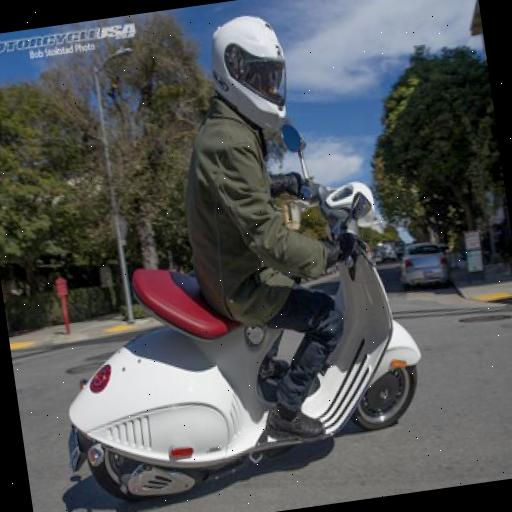helmet: (145, 0, 444, 475)
